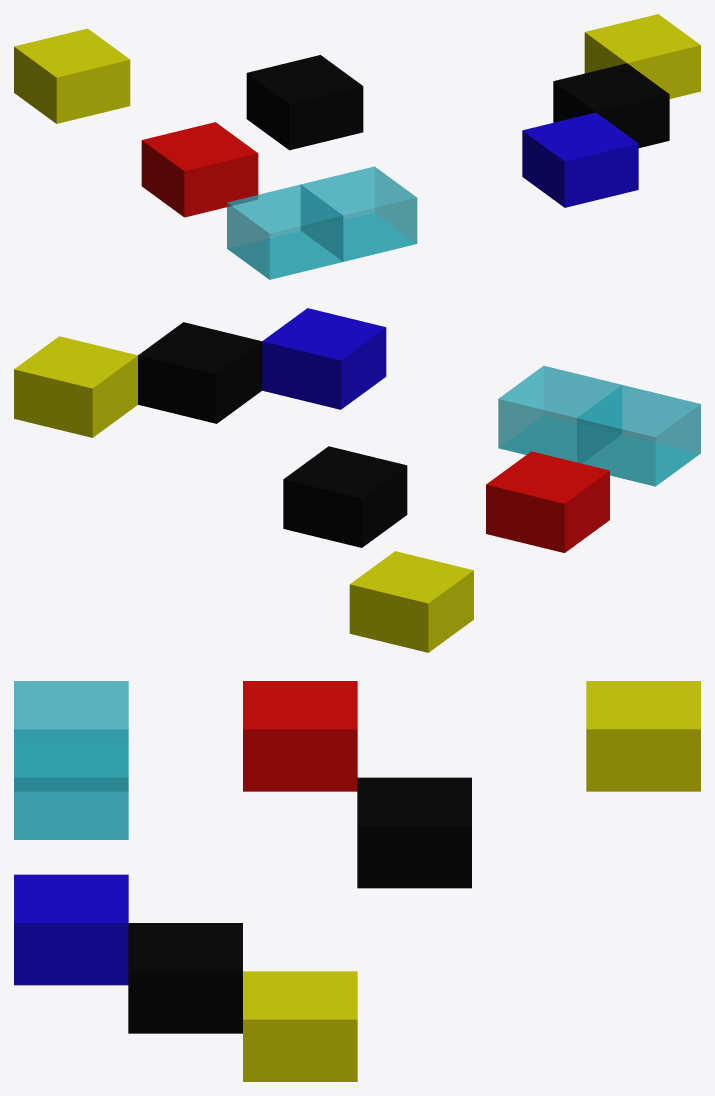
File: test-random-block.fbx
The picture shows the model from 3 angles, top to bottom: view 1: azimuth 30°, elevation 25°; view 2: azimuth 150°, elevation 25°; view 3: azimuth 270°, elevation 25°; orthographic projection. The views are drawn at different scales.
Parts seen in each view (by area): view 1: test-random-block; view 2: test-random-block; view 3: test-random-block.
Boxes of the visible parts, left/top/right/bottom form: test-random-block: left=14, top=14, right=700, bottom=279; test-random-block: left=14, top=308, right=700, bottom=652; test-random-block: left=14, top=681, right=700, bottom=1081.
Size of the model in its own units: 700 by 60 by 600.
